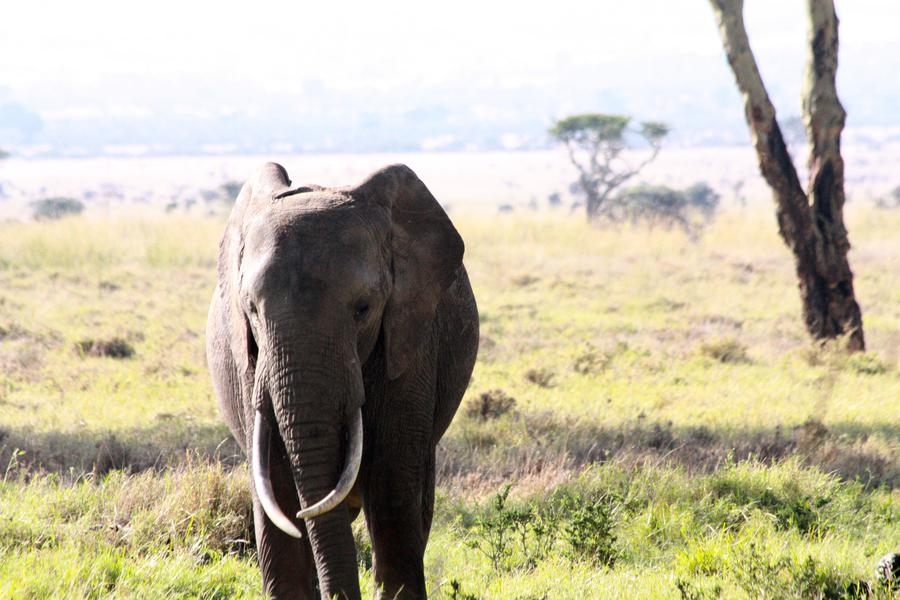elephant: (196, 153, 466, 573)
